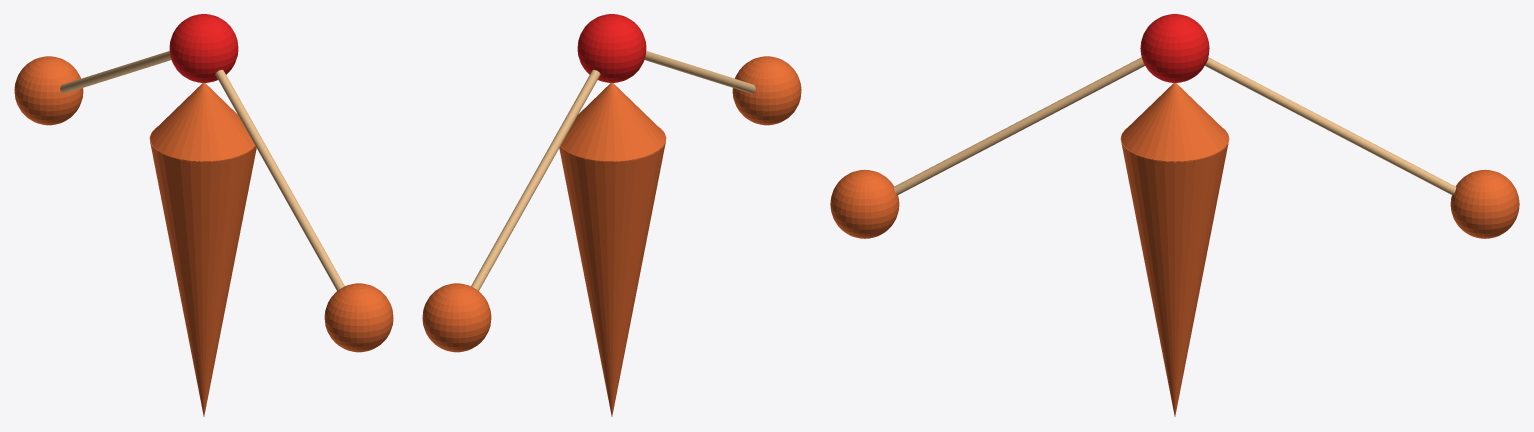
File: ヤジロベエ.fbx
The picture shows the model from 3 angles, left to right: view 1: azimuth 30°, elevation 25°; view 2: azimuth 150°, elevation 25°; view 3: azimuth 270°, elevation 25°; orthographic projection.
Visible parts, largest first — view 1: Cone, Cone.001, Cylinder.003, Sphere, Cylinder.002, Cylinder, Cylinder.001; view 2: Cone, Cone.001, Cylinder.002, Sphere, Cylinder.003, Cylinder.001, Cylinder; view 3: Cone, Cone.001, Sphere, Cylinder.002, Cylinder.003, Cylinder, Cylinder.001.
Boxes of the visible parts, left/top/right/bottom form: Cone: left=149, top=128, right=256, bottom=416; Cone.001: left=150, top=83, right=255, bottom=161; Cylinder.003: left=324, top=283, right=393, bottom=352; Sphere: left=169, top=14, right=238, bottom=82; Cylinder.002: left=14, top=56, right=83, bottom=125; Cylinder: left=215, top=70, right=344, bottom=290; Cylinder.001: left=60, top=51, right=171, bottom=93; Cone: left=559, top=128, right=666, bottom=416; Cone.001: left=560, top=83, right=665, bottom=161; Cylinder.002: left=422, top=283, right=491, bottom=352; Sphere: left=577, top=14, right=646, bottom=82; Cylinder.003: left=732, top=56, right=801, bottom=125; Cylinder.001: left=471, top=70, right=600, bottom=290; Cylinder: left=644, top=51, right=755, bottom=93; Cone: left=1120, top=128, right=1229, bottom=416; Cone.001: left=1121, top=83, right=1228, bottom=162; Sphere: left=1140, top=14, right=1209, bottom=82; Cylinder.002: left=1450, top=169, right=1519, bottom=238; Cylinder.003: left=830, top=169, right=899, bottom=238; Cylinder: left=893, top=57, right=1144, bottom=195; Cylinder.001: left=1205, top=57, right=1456, bottom=195.
Bounding box in the file's own units: 200 × 813 × 1267.
